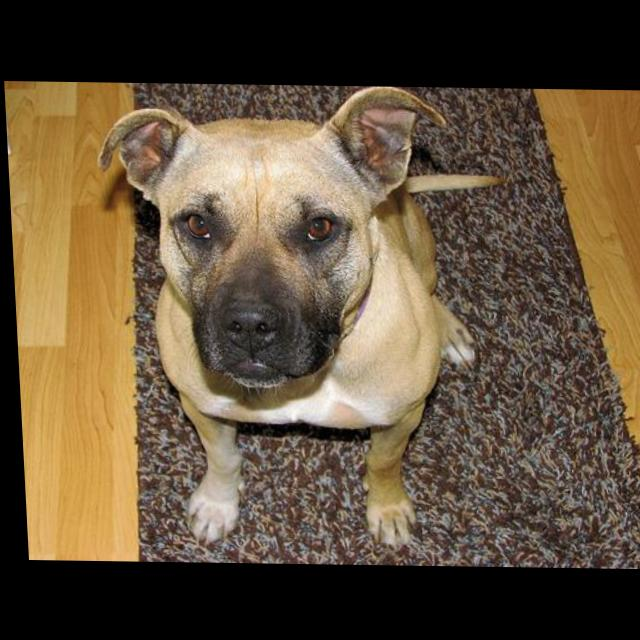amstaff: (92, 82, 517, 549)
